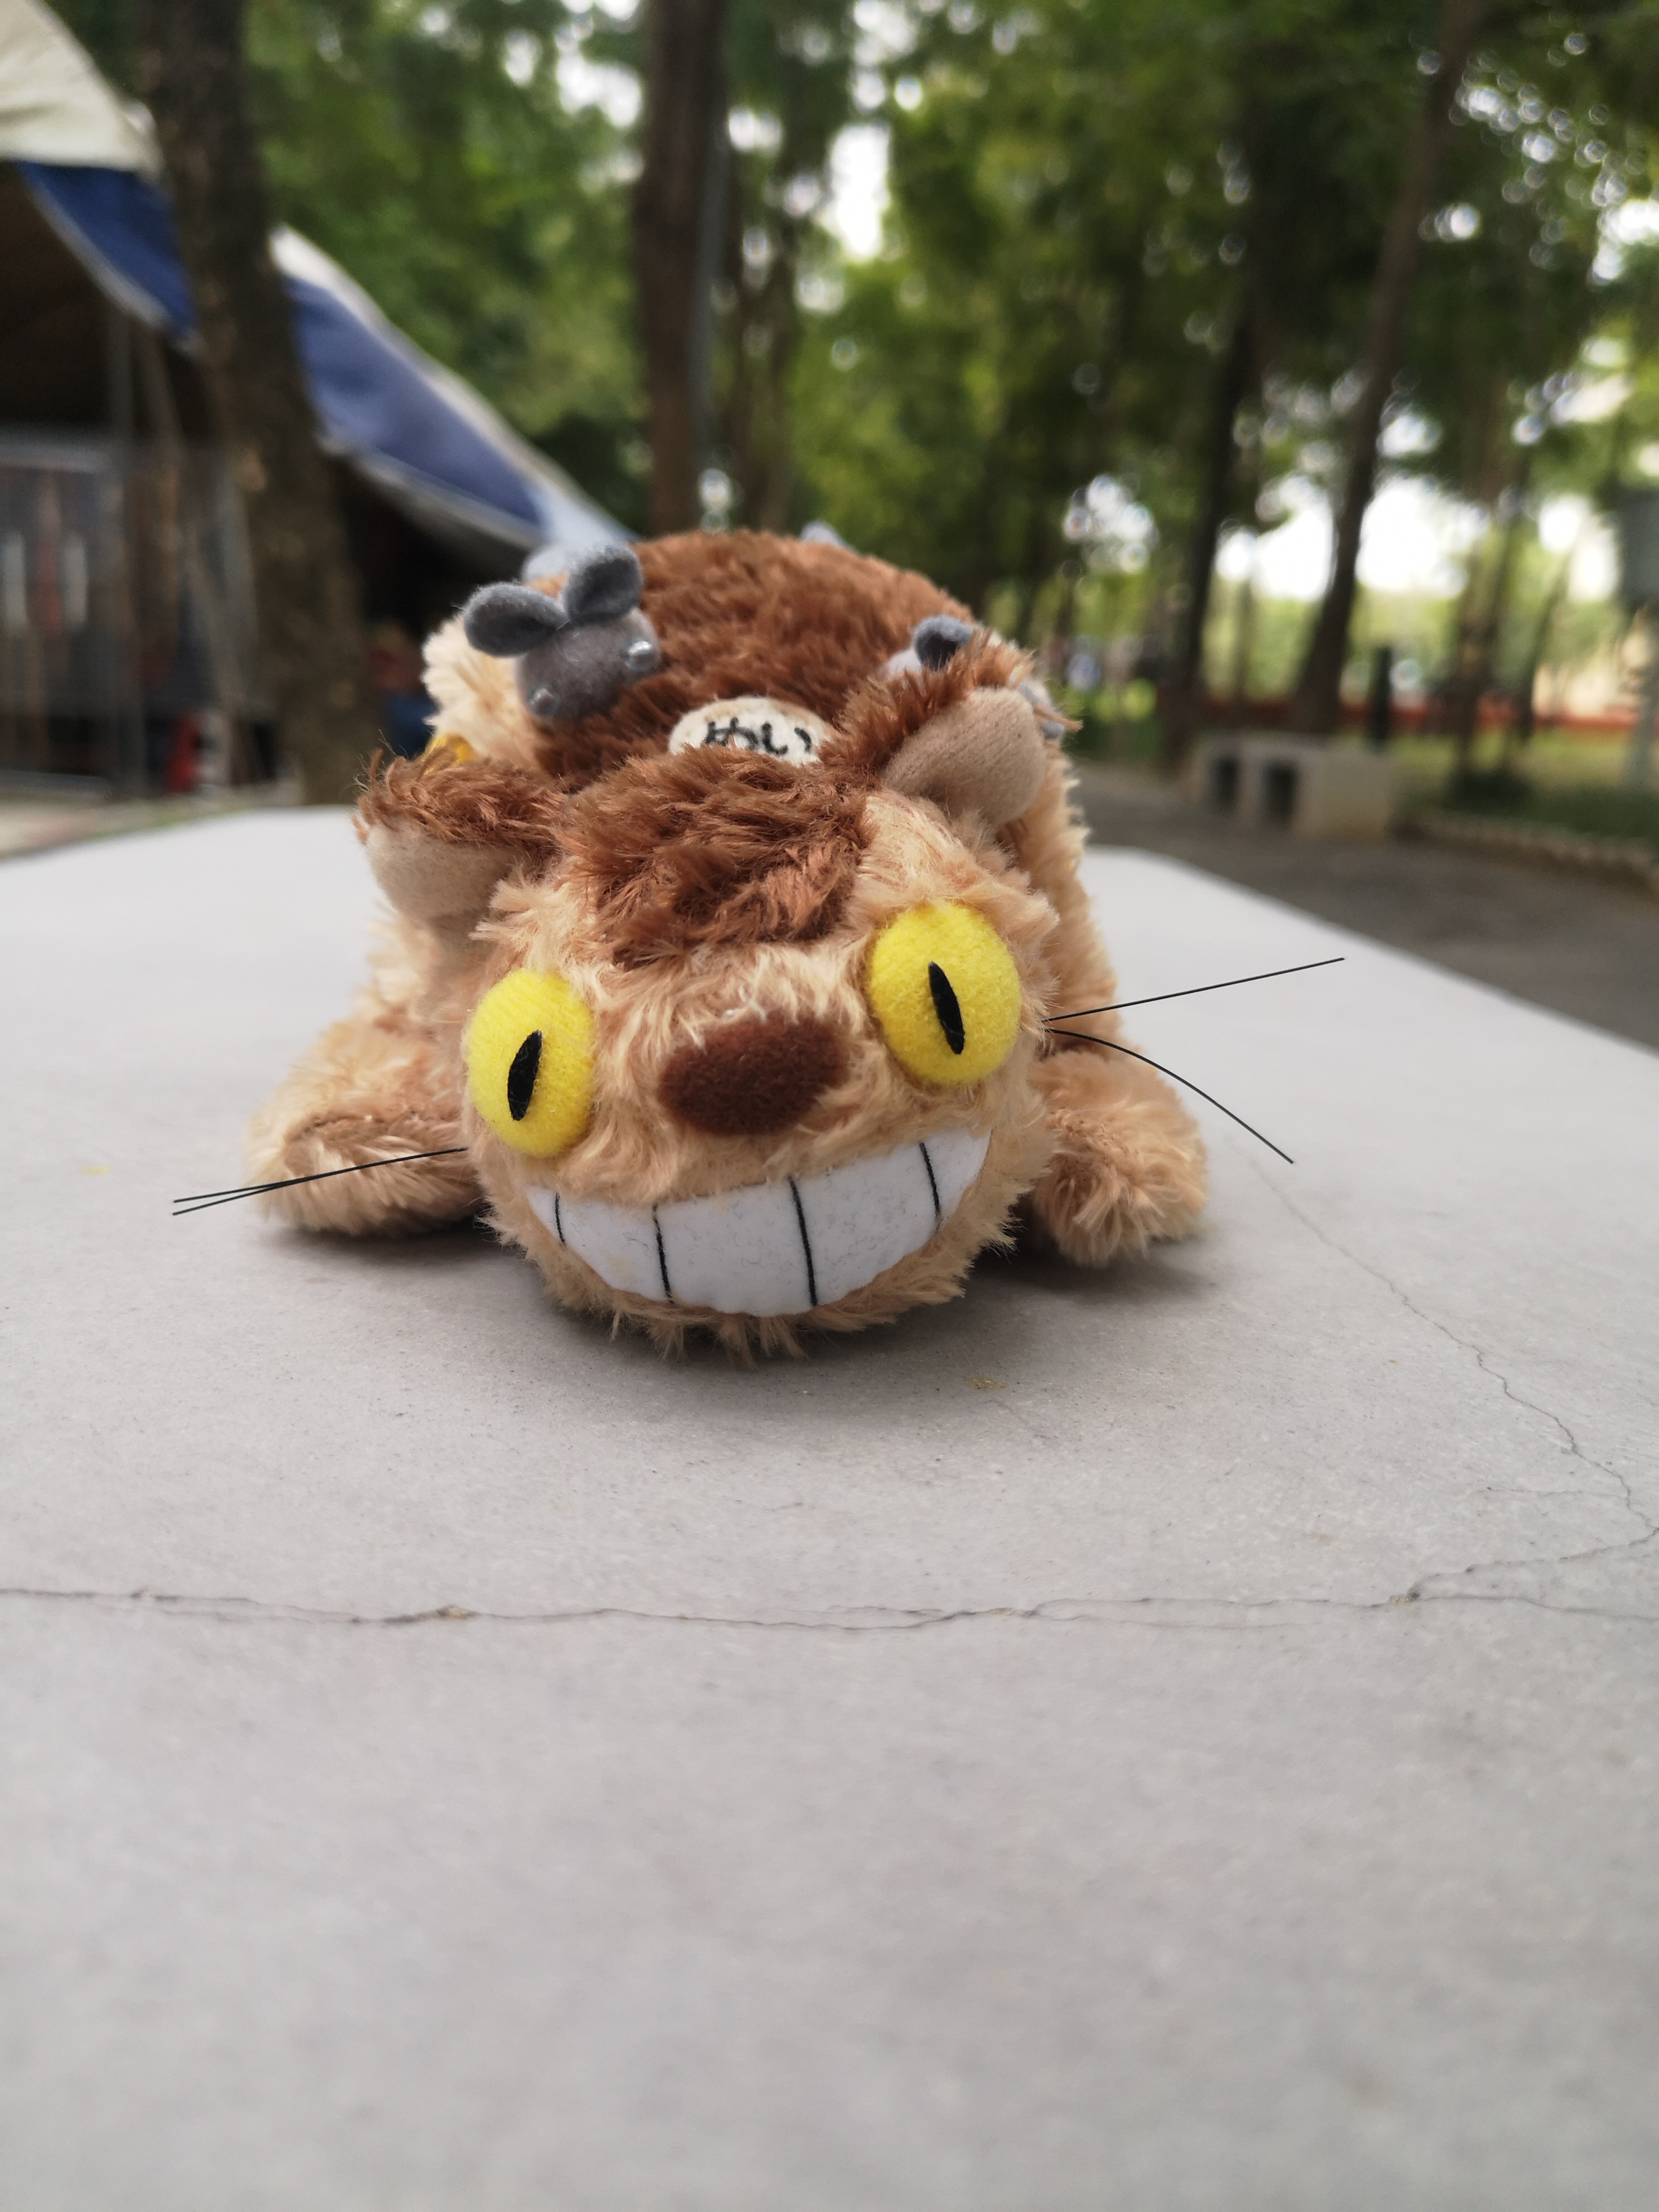nekobus: (148, 509, 1377, 1418)
